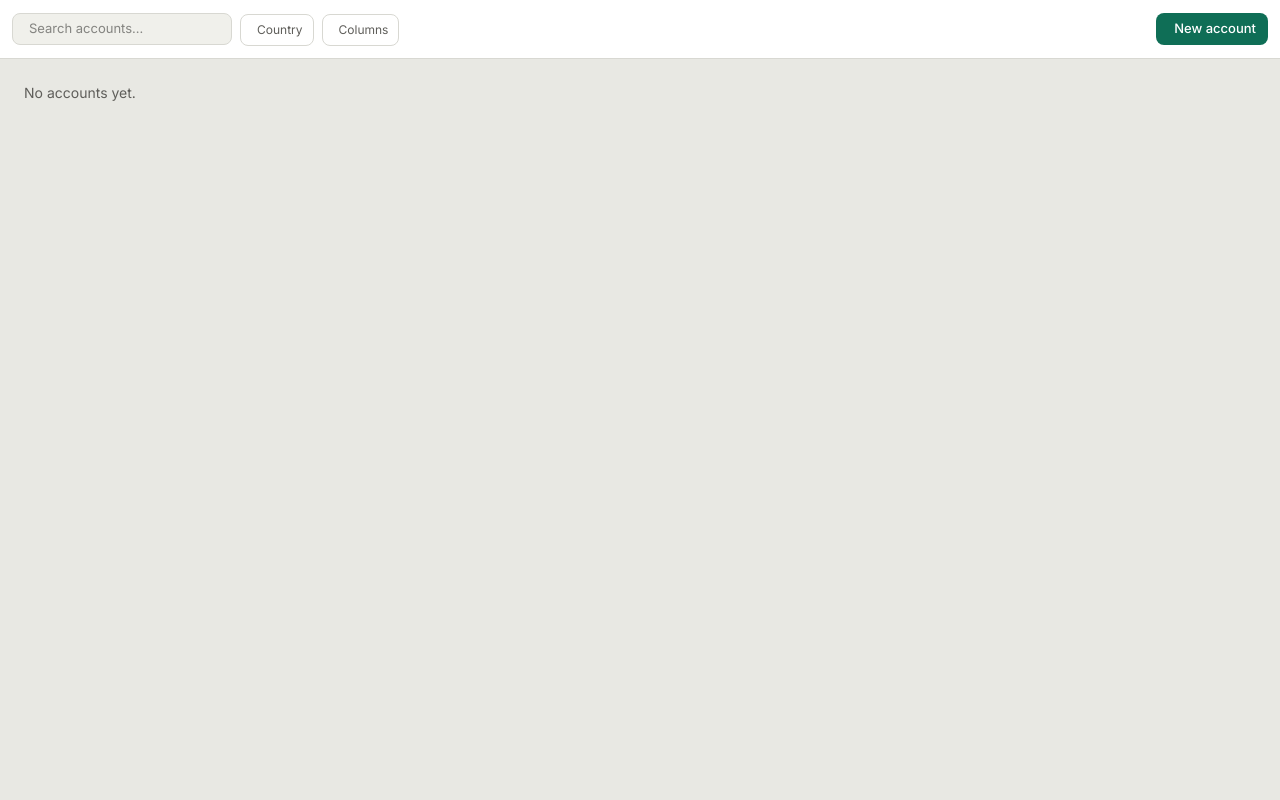
Test: AccountsPage › opens the new account modal
Click the button "New account": (1212, 29) [1156,13,1268,45]
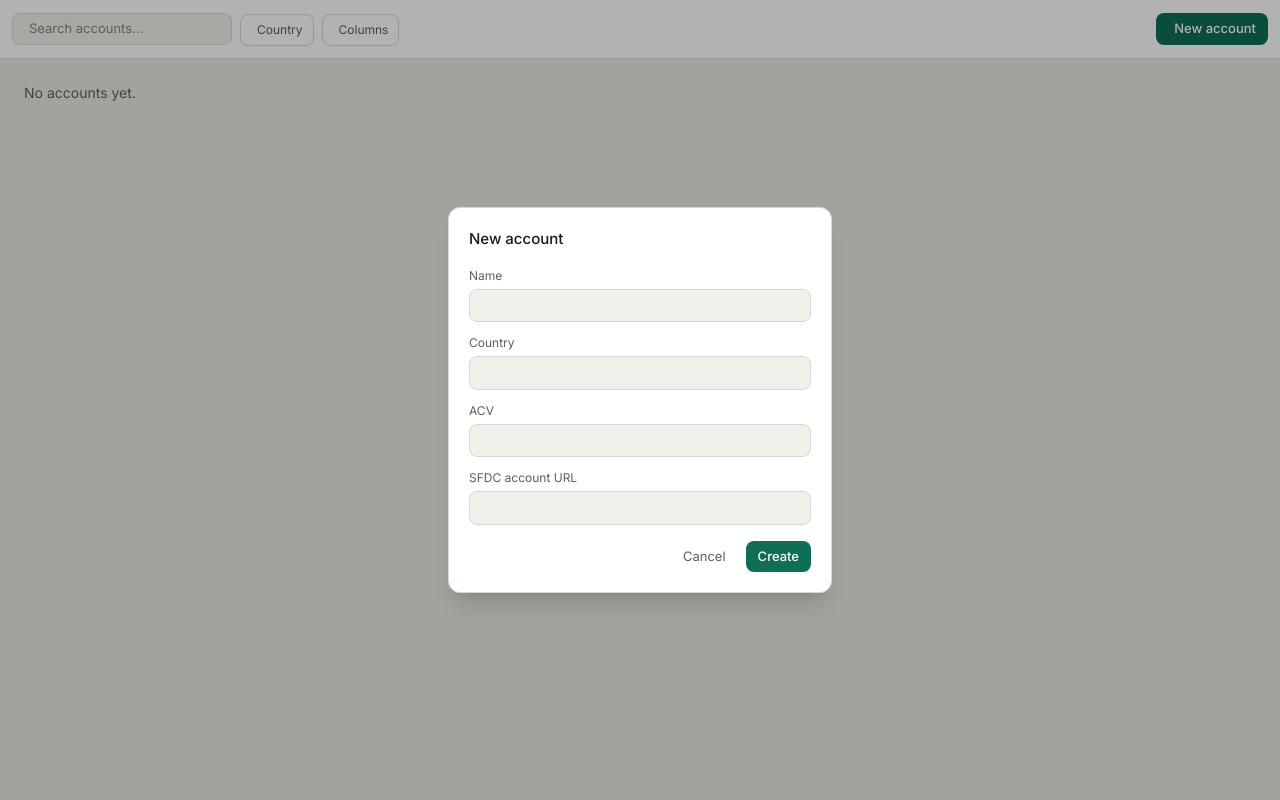
Expected: the button "Create" is shown, [746,540,811,572]
